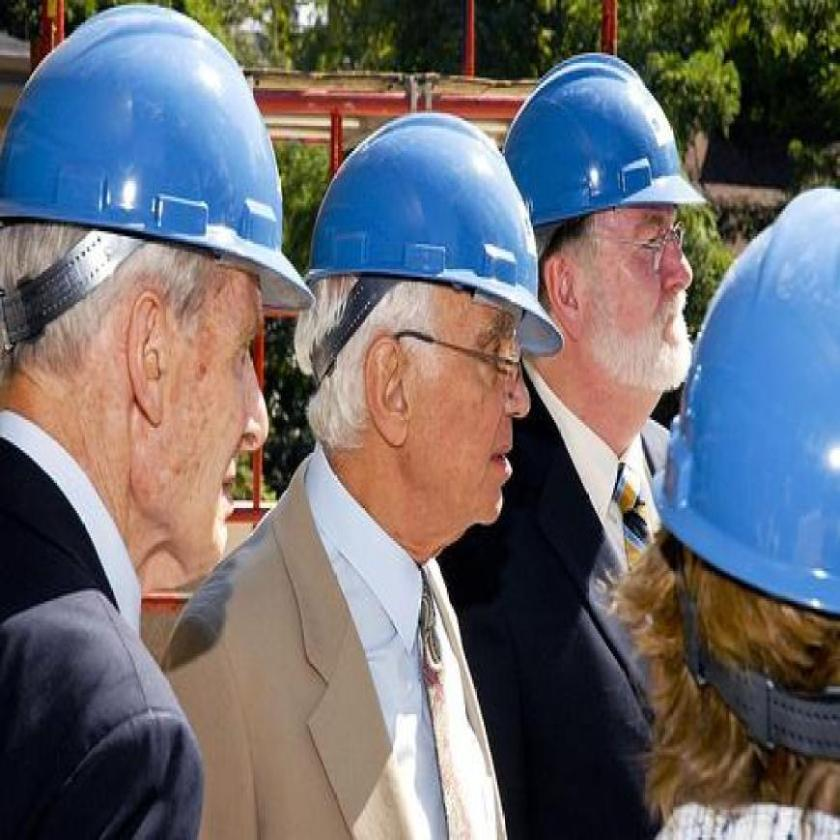Con_casco: (0, 0, 297, 605), (308, 106, 537, 544), (522, 38, 698, 400)
